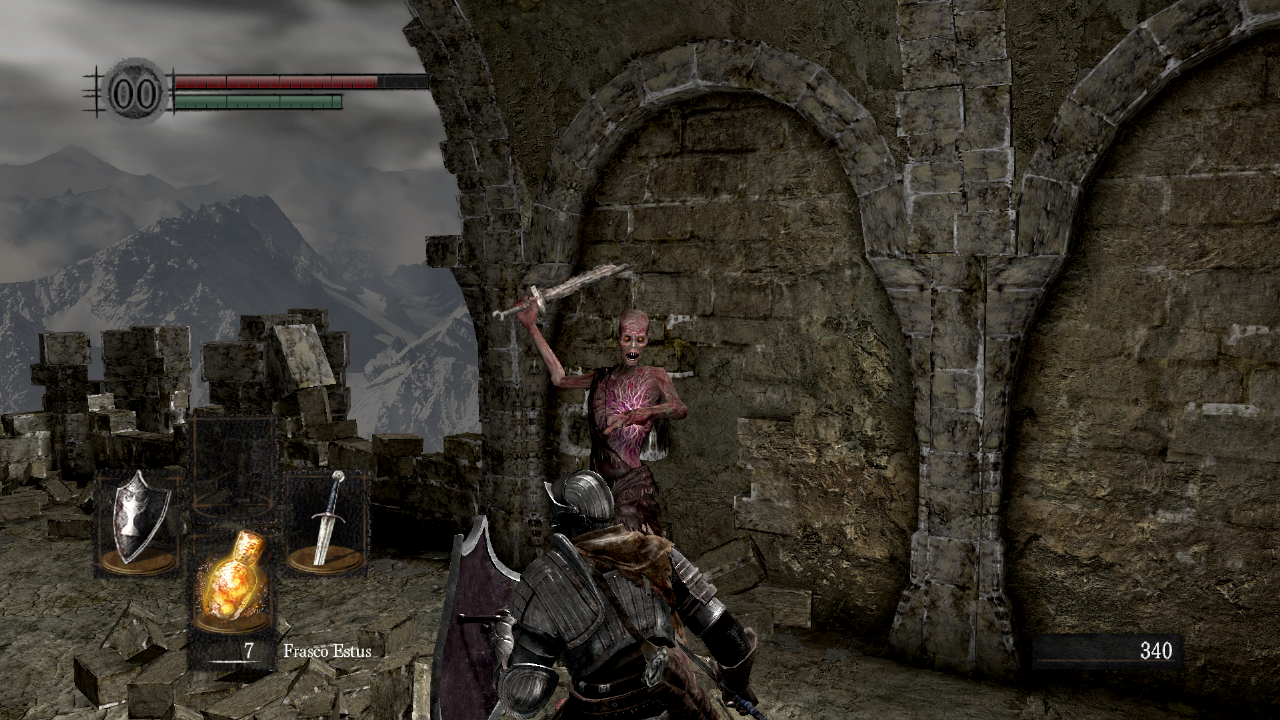hollow: (492, 262, 691, 643)
player: (430, 470, 770, 720)
